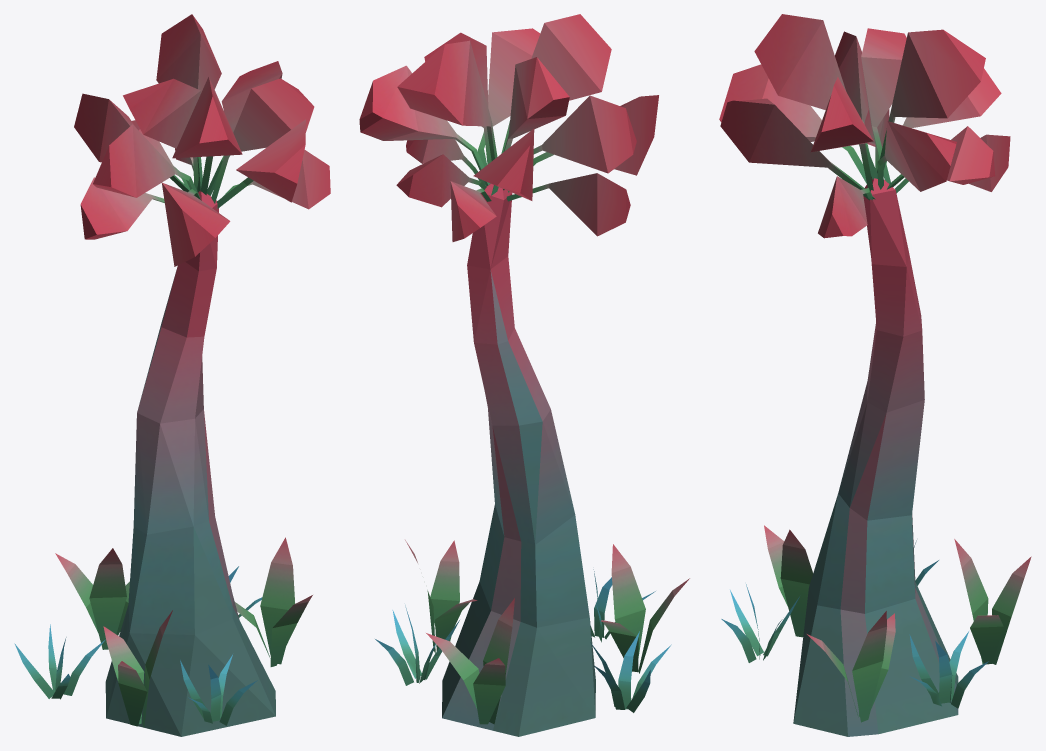
The model's file is plant_XL02.FBX.
3 renders of one model, left to right at view 1: azimuth 30°, elevation 25°; view 2: azimuth 150°, elevation 25°; view 3: azimuth 270°, elevation 25°, orthographic. The views are drawn at different scales.
Visible parts, largest first — view 1: plant_XL02; view 2: plant_XL02; view 3: plant_XL02.
Part boxes in pixels (x1,y1,x2,y2): plant_XL02: [14, 14, 330, 736]; plant_XL02: [359, 14, 689, 736]; plant_XL02: [719, 14, 1031, 736].
Bounding box in the file's own units: 154 × 349 × 144.
Materials: 1 (1 with a texture image).
